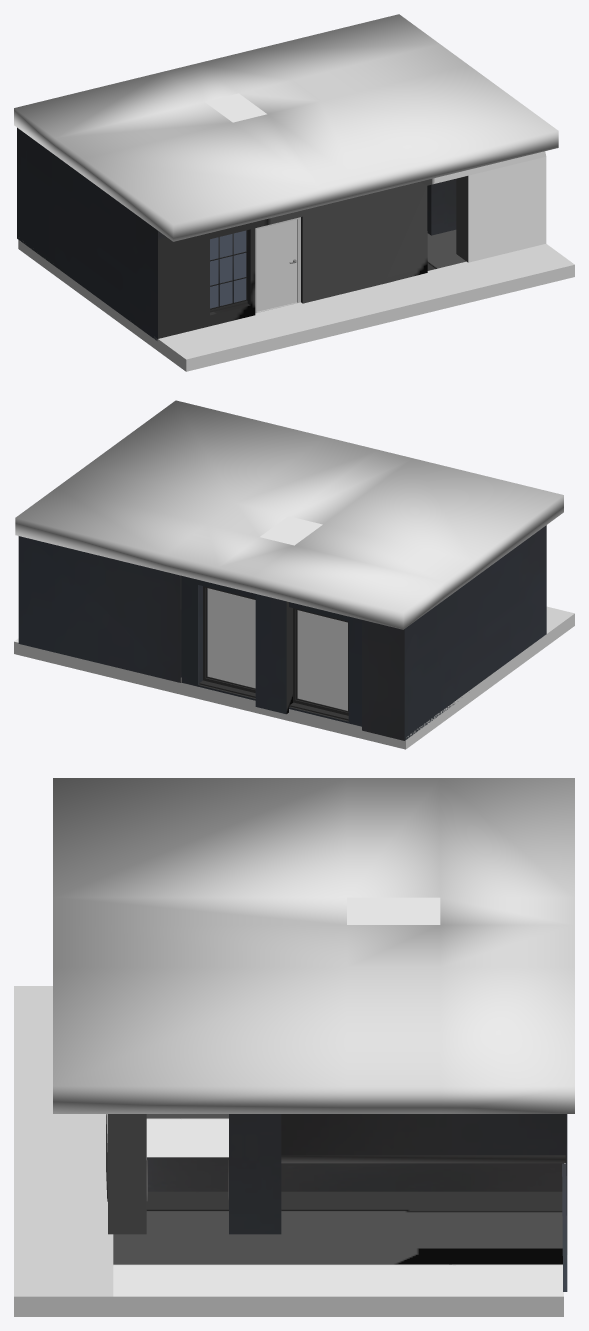
File: 01_Lightbake 3.fbx
The picture shows the model from 3 angles, top to bottom: view 1: azimuth 30°, elevation 25°; view 2: azimuth 150°, elevation 25°; view 3: azimuth 270°, elevation 25°; orthographic projection. The views are drawn at different scales.
Parts seen in each view (by area): view 1: SM_ceiling_0, SM_wall_0, SM_floor_exterior_0, SM_floor_trim.001_0, SM_door_1, SM_windows_glass.001_0, SM_floor_trim_0, SM_ceiling_cover_0, SM_window_frames_001_0, SM_door_frame_0; view 2: SM_ceiling_0, SM_wall_0, SM_windows_glass_0, SM_floor_trim.001_0, SM_window_frames_0, SM_ceiling_cover_0; view 3: SM_ceiling_0, SM_floor_trim_0, SM_wall_0, SM_floor_exterior_0, SM_floor_trim.001_0, SM_wall_1, SM_ceiling_cover_0.
Boxes of the visible parts, x1,y1,x2,y2 form: SM_ceiling_0: (14, 14, 558, 241); SM_wall_0: (17, 127, 546, 340); SM_floor_exterior_0: (158, 243, 574, 359); SM_floor_trim.001_0: (18, 240, 574, 371); SM_door_1: (257, 219, 296, 311); SM_windows_glass.001_0: (210, 230, 246, 308); SM_floor_trim_0: (427, 229, 466, 270); SM_ceiling_cover_0: (204, 93, 266, 122); SM_window_frames_001_0: (210, 230, 247, 312); SM_door_frame_0: (255, 217, 300, 313); SM_ceiling_0: (15, 400, 563, 629); SM_wall_0: (18, 525, 546, 740); SM_windows_glass_0: (207, 588, 347, 710); SM_floor_trim.001_0: (14, 613, 574, 749); SM_window_frames_0: (199, 586, 348, 720); SM_ceiling_cover_0: (260, 516, 322, 545); SM_ceiling_0: (53, 778, 574, 1113); SM_floor_trim_0: (113, 1157, 563, 1296); SM_wall_0: (106, 1114, 567, 1291); SM_floor_exterior_0: (14, 986, 113, 1296); SM_floor_trim.001_0: (14, 1296, 563, 1316); SM_wall_1: (146, 1155, 566, 1201); SM_ceiling_cover_0: (347, 897, 440, 924).
Size of the model in its own units: 999 by 336 by 752.
57 materials, 26 textured.
